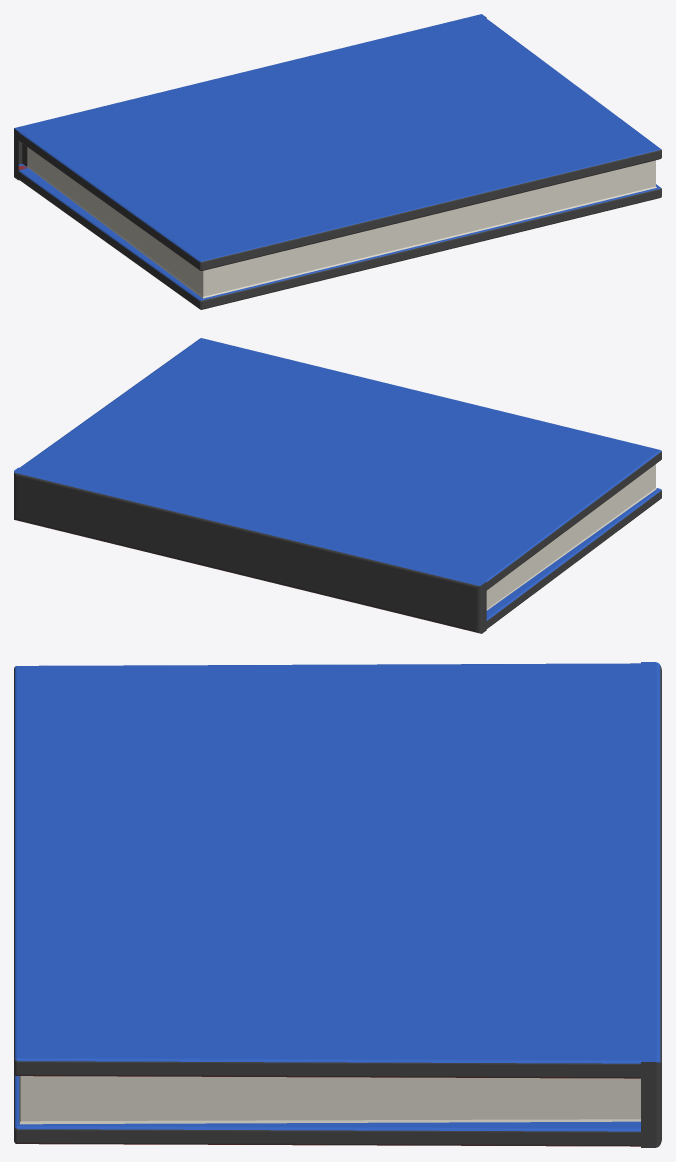
The model's file is book.glb.
3 views of the same model, one above another, from view 1: azimuth 30°, elevation 25°; view 2: azimuth 150°, elevation 25°; view 3: azimuth 270°, elevation 25° (orthographic). The views are drawn at different scales.
Parts seen in each view (by area): view 1: Book; view 2: Book; view 3: Book.
Part boxes in pixels (box(x1,y1,x2,y2)): Book: box(14, 14, 661, 309); Book: box(14, 338, 661, 633); Book: box(14, 662, 661, 1147).
Bounding box in the file's own units: 1 × 0.0999 × 0.6846.
Materials: 4 (4 with a texture image).
